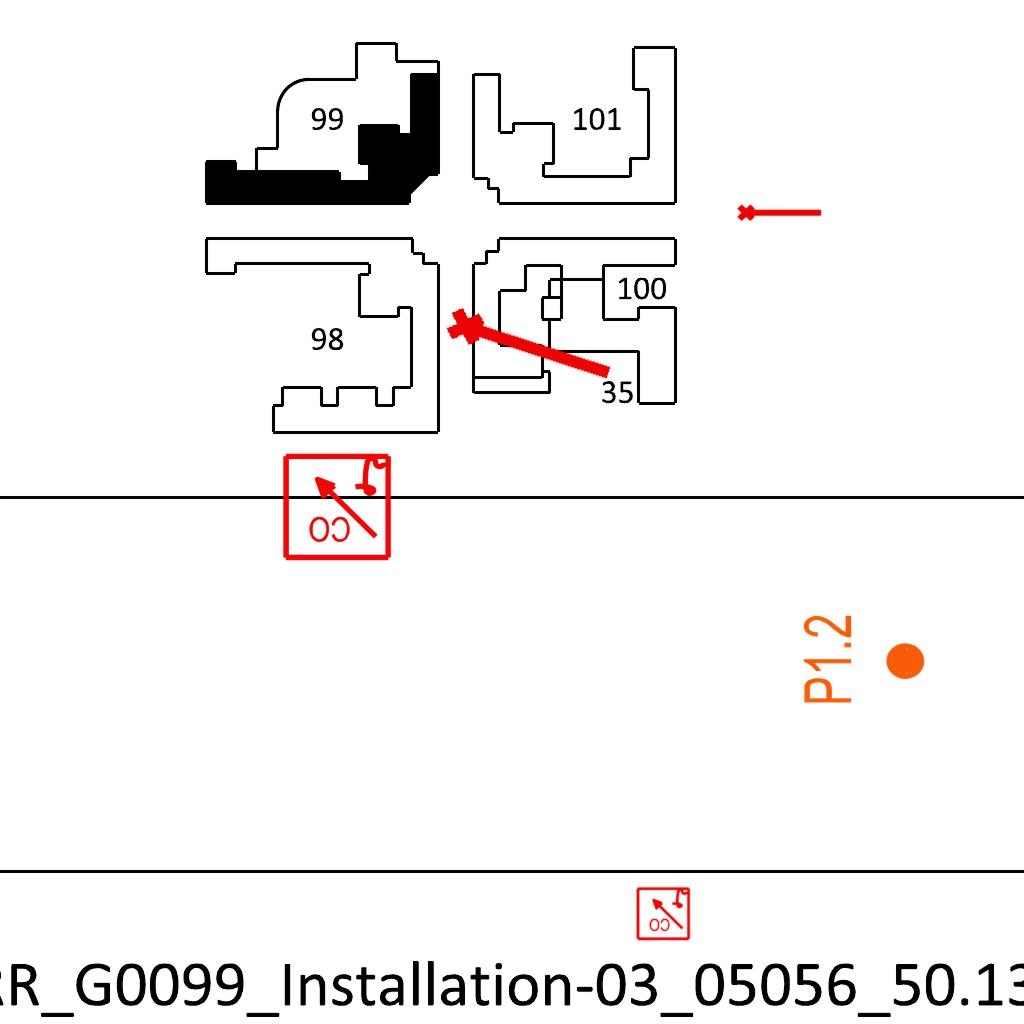ASR_Ansaugoeffnung: (440, 295, 622, 395), (736, 200, 824, 223)
Downlight_LED_Einbauleuchten_Flur: (800, 613, 928, 706)
ROA_Rauchmelder_optisch_mit_Signalgeber_(Sockelsirene): (280, 449, 393, 562), (635, 885, 691, 941)
